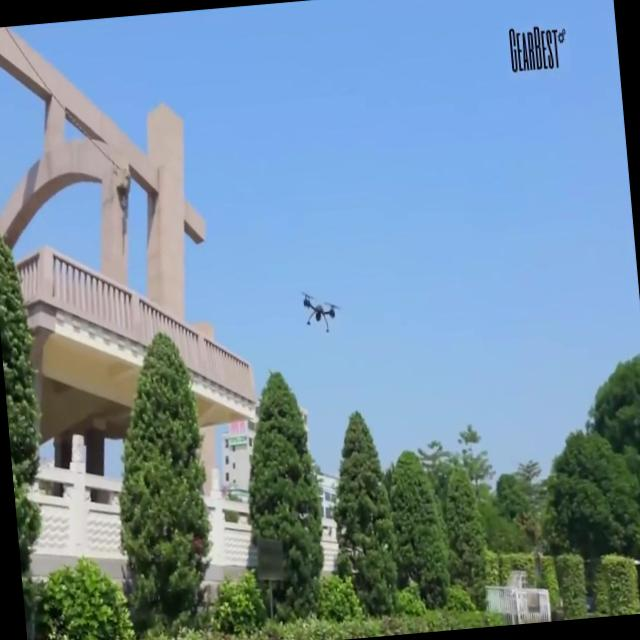drone: (300, 284, 343, 342)
